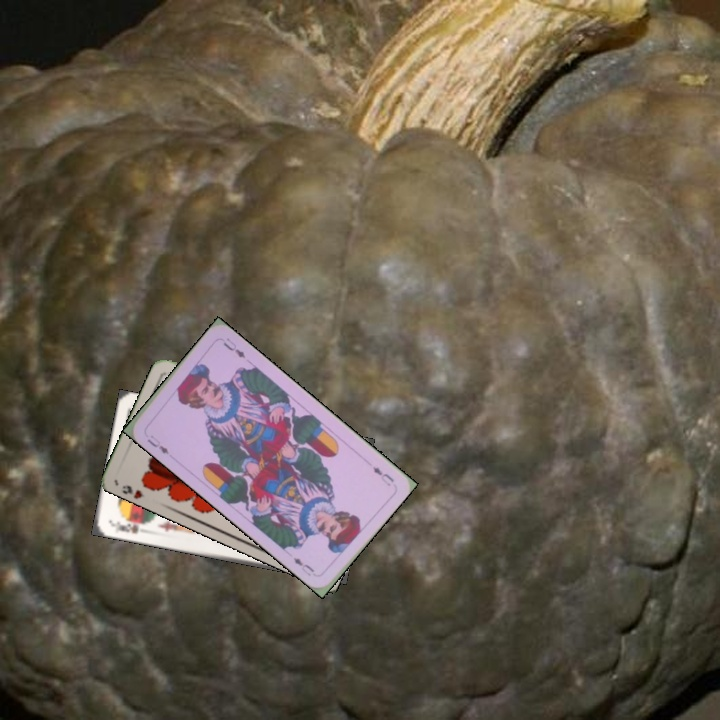EU: (368, 462, 397, 489), (143, 431, 171, 456)
H9: (118, 481, 145, 501)
SK: (108, 517, 149, 536)
